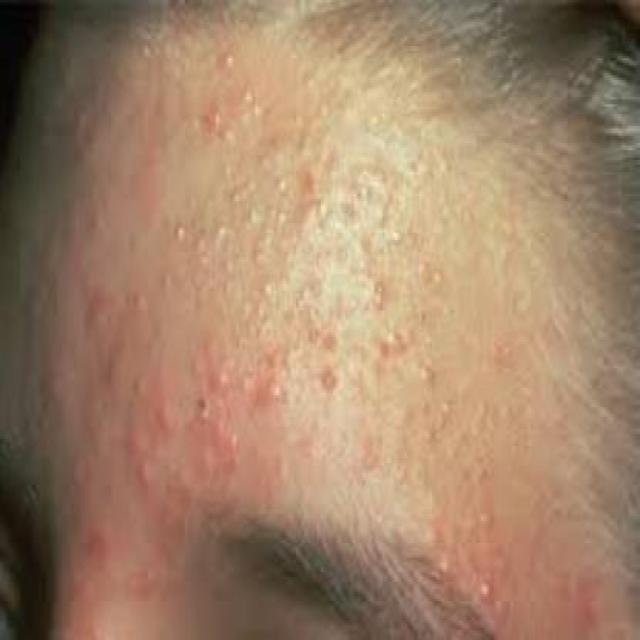whiteheads: (196, 102, 236, 148), (228, 75, 264, 124), (265, 162, 296, 208), (415, 252, 446, 298), (203, 213, 234, 254), (366, 276, 396, 318), (410, 352, 441, 392), (313, 366, 344, 405), (203, 358, 233, 398), (475, 504, 501, 546), (162, 208, 193, 242), (378, 322, 404, 362), (210, 39, 240, 73), (248, 272, 278, 306), (475, 570, 501, 608), (387, 211, 412, 250), (259, 376, 284, 410), (309, 189, 333, 223), (435, 393, 459, 424), (239, 197, 261, 230), (272, 196, 292, 228)
